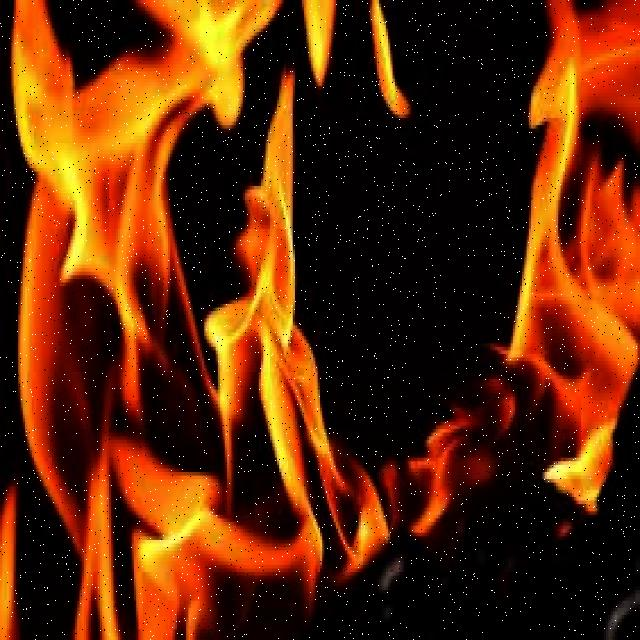fire: (8, 12, 368, 635), (464, 20, 640, 620)
